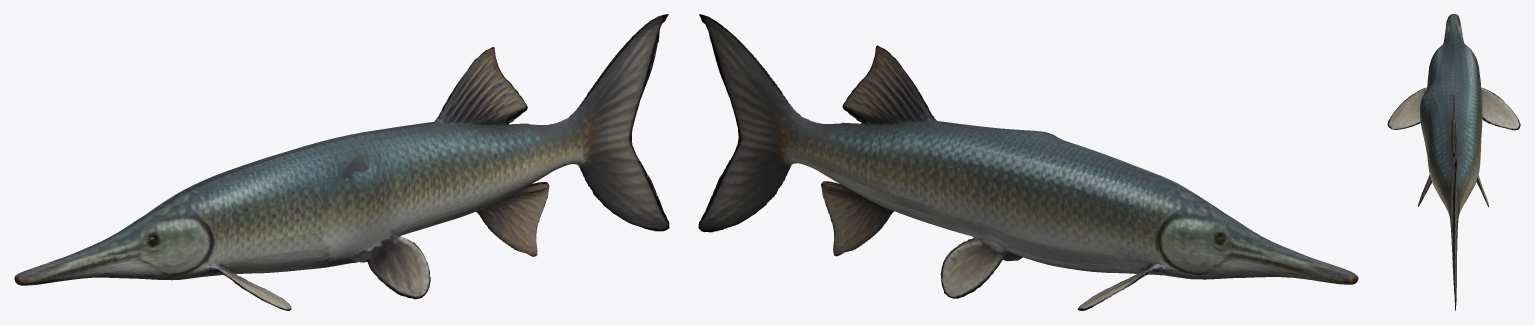
3 views of the same model, side by side, from view 1: azimuth 30°, elevation 25°; view 2: azimuth 150°, elevation 25°; view 3: azimuth 270°, elevation 25° (orthographic). The views are drawn at different scales.
Parts seen in each view (by area): view 1: STAGE13_LOCAL_COLOR_CONTINUITY_NOT_CANDIDATE; view 2: STAGE13_LOCAL_COLOR_CONTINUITY_NOT_CANDIDATE; view 3: STAGE13_LOCAL_COLOR_CONTINUITY_NOT_CANDIDATE.
Boxes of the visible parts, <box> form: STAGE13_LOCAL_COLOR_CONTINUITY_NOT_CANDIDATE: <box>14,14,669,310</box>; STAGE13_LOCAL_COLOR_CONTINUITY_NOT_CANDIDATE: <box>698,14,1358,310</box>; STAGE13_LOCAL_COLOR_CONTINUITY_NOT_CANDIDATE: <box>1387,14,1520,310</box>.
Bounding box in the file's own units: 0.9997 × 0.3315 × 0.2548.
2 materials, 2 textured.
